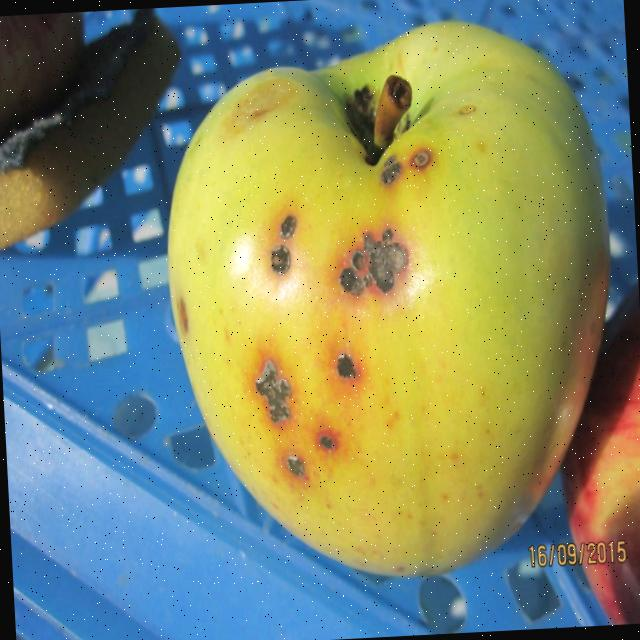rotten apple: (119, 12, 640, 620)
